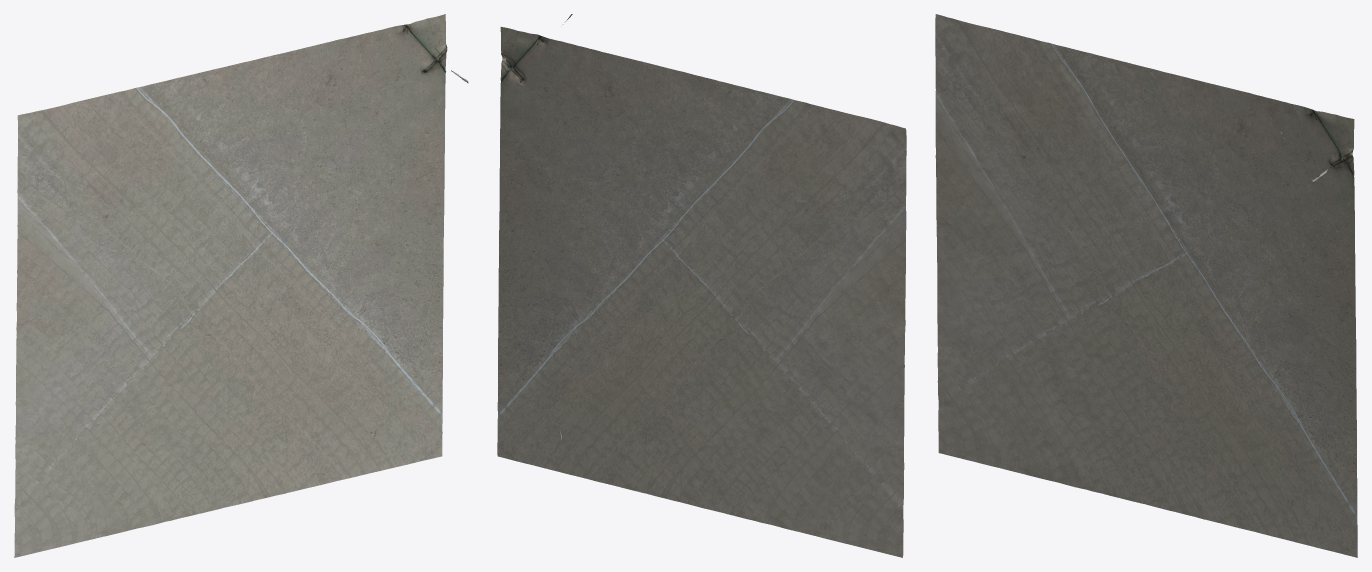
The model's file is Tile_+020_+013.fbx.
The picture shows the model from 3 angles, left to right: view 1: azimuth 30°, elevation 25°; view 2: azimuth 150°, elevation 25°; view 3: azimuth 330°, elevation 25°; orthographic projection. The views are drawn at different scales.
Parts seen in each view (by area): view 1: DefaultName; view 2: DefaultName; view 3: DefaultName.
Part boxes in pixels (box(x1,y1,x2,y2)): DefaultName: box(14, 14, 468, 557); DefaultName: box(497, 14, 906, 557); DefaultName: box(935, 14, 1357, 557).
Size of the model in its own units: 22.54 by 22.54 by 3.53.
